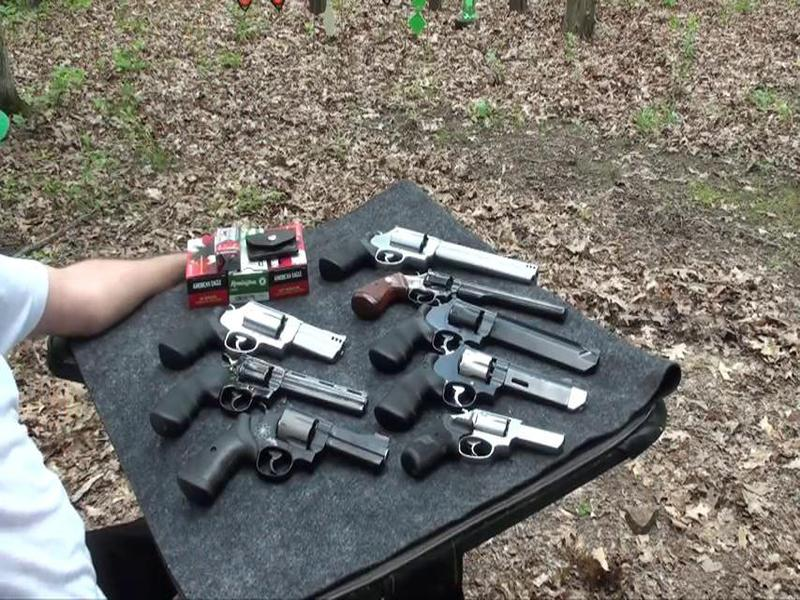Revolver: (377, 332, 586, 432)
